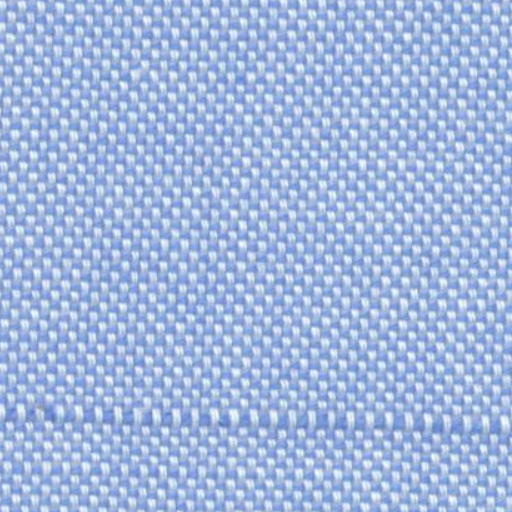DaiSha: (8, 386, 500, 456)
